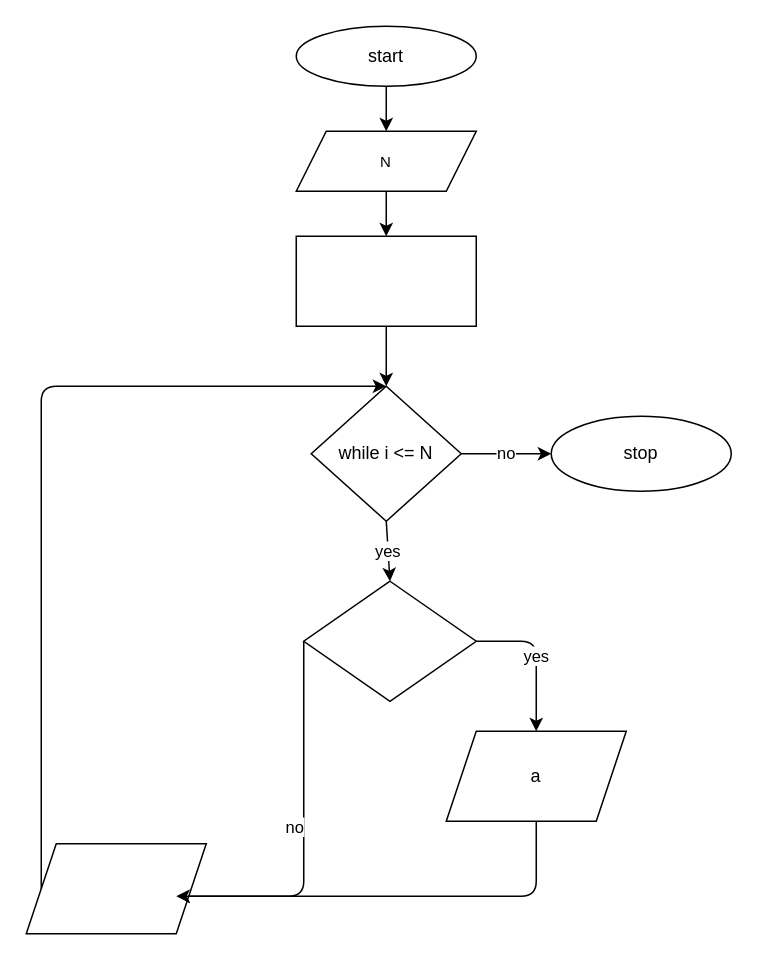
This 758x960 diagram has some shape labels left out. The shapes that lost their labels are listed below. From the top down, each one's box as (x1, y1, x2, y2) in pixels, then its label:
(295, 235, 476, 326): i=2
(302, 580, 476, 701): a % 2 == 0
(25, 842, 206, 934): a = a + 2
